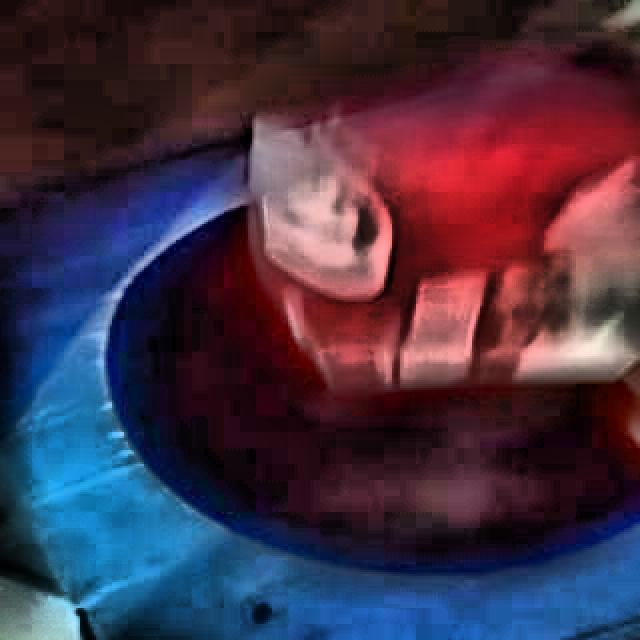metal: (251, 69, 640, 392)
